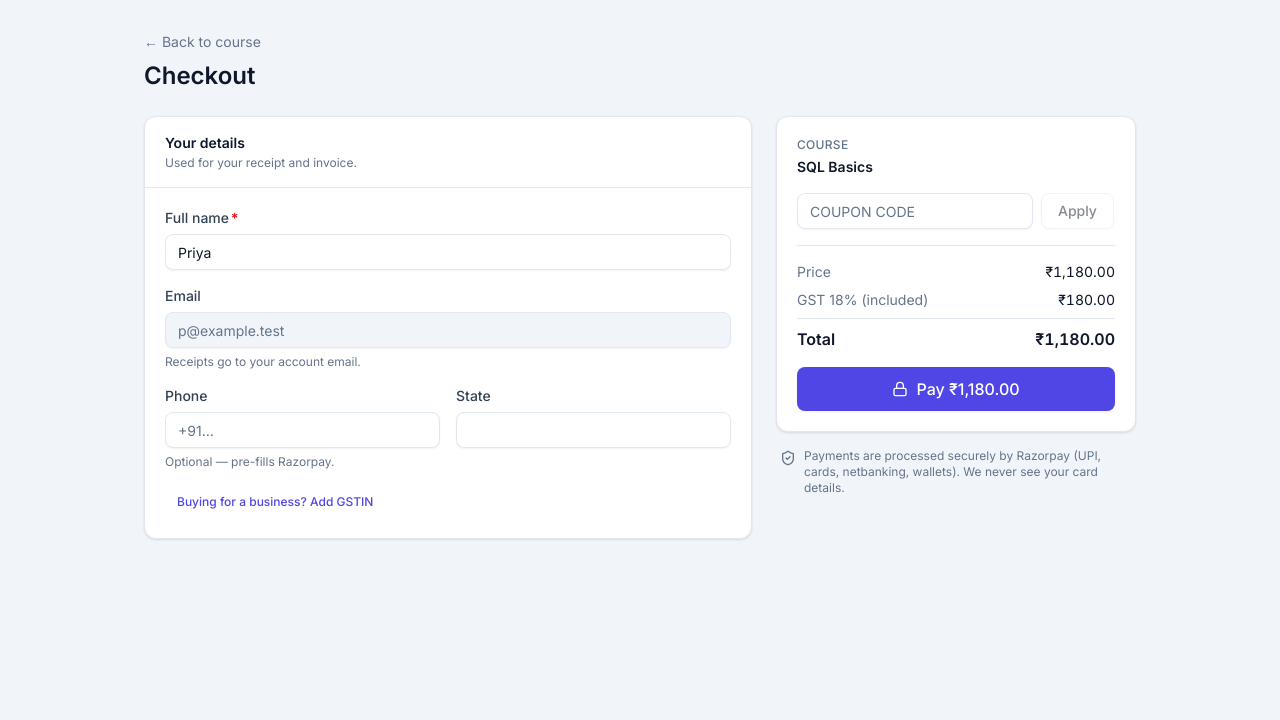
Test: CheckoutPage › applies a coupon, pays through Razorpay and confirms on the server
Type "save10" into the field labelled "Coupon code" at (915, 211), box [797, 193, 1033, 229]
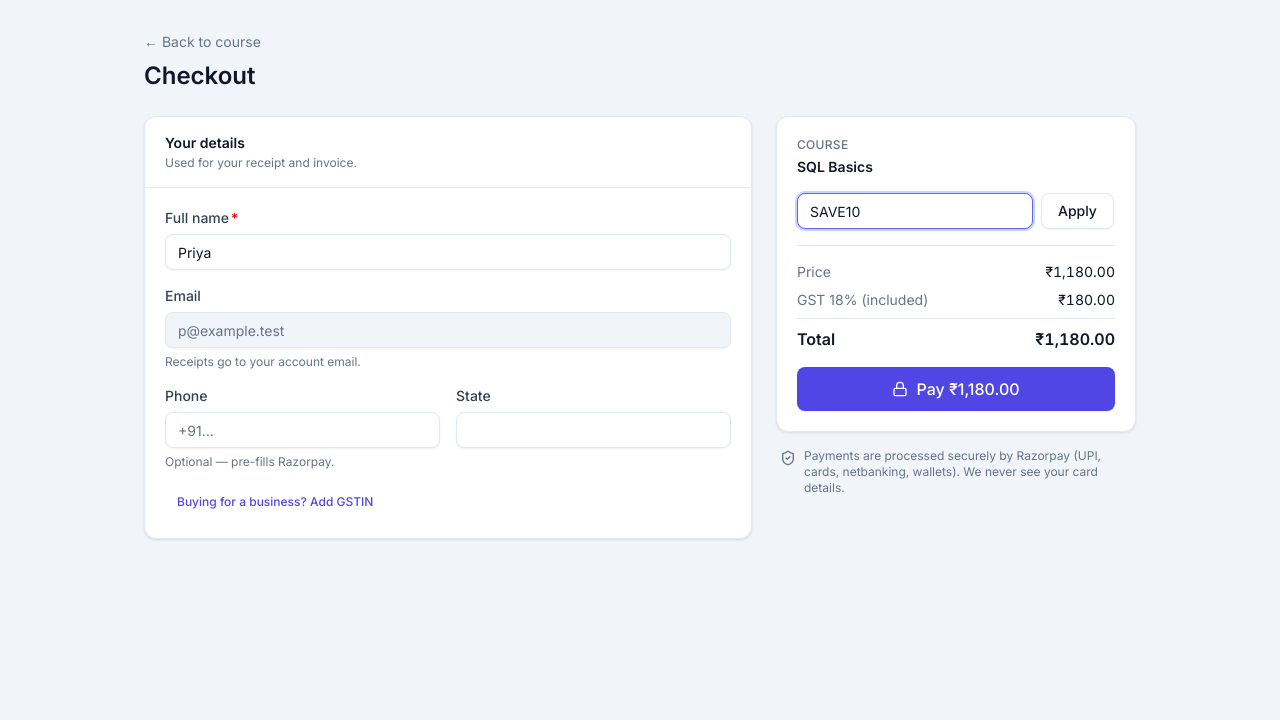
Click the button "Apply" at (1077, 211), box [1041, 193, 1114, 229]
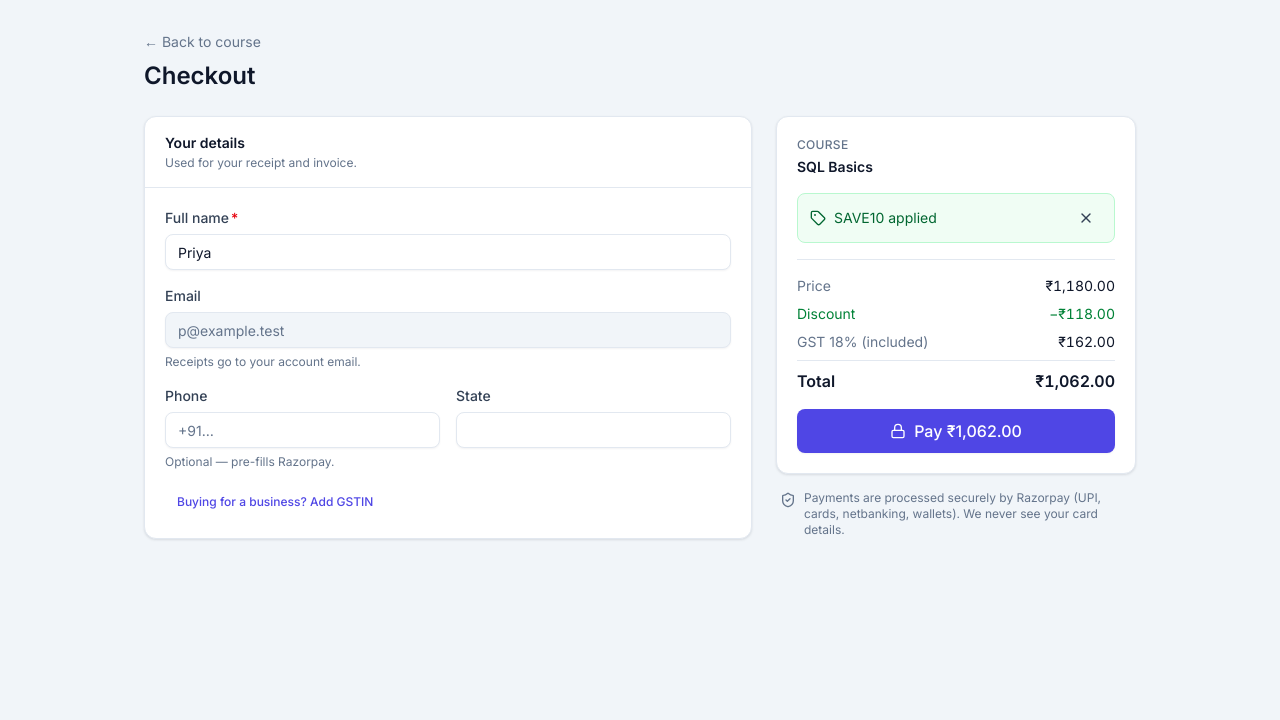
expect the text "SAVE10 applied" is shown: met, box [810, 208, 937, 228]
Click the button "Pay ₹1,062.00" at (956, 431), box [797, 409, 1115, 453]
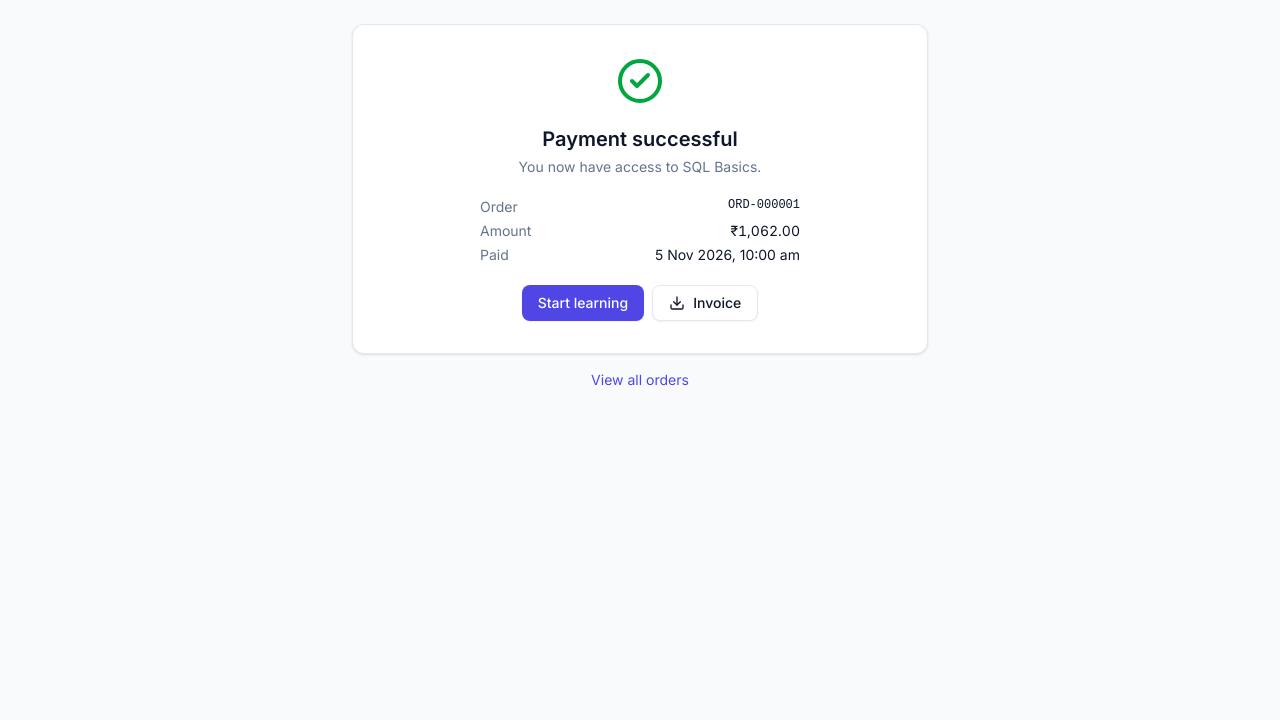
expect the heading "Payment successful" is shown: met, box [542, 127, 738, 151]
